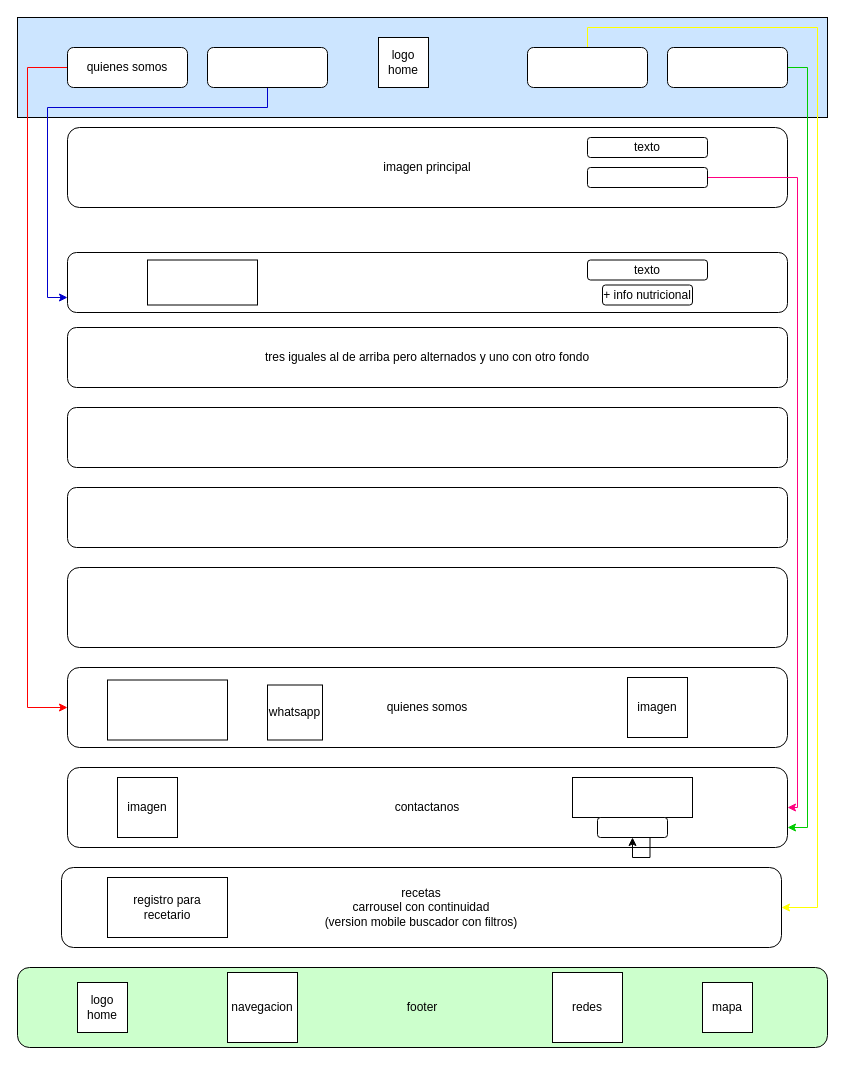
Image size: 845x1065. Some labels were removed from this diagram. The shapes that lost their labels are listed below. From the top down, each one's centre as x and y in pixels, then its label:
At point (267, 67): "productos".
At point (587, 67): "recetas".
At point (727, 67): "contacto".
At point (647, 177): "hace tu pedido".
At point (202, 282): "producto".
At point (427, 607): "calidad tres simbolos".
At point (167, 709): "clientes".
At point (632, 797): "formulario".
At point (632, 827): "enviar".
